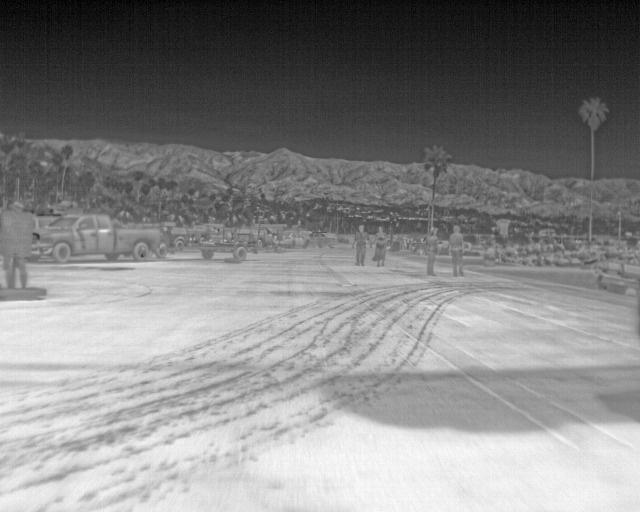bicycle: (34, 210, 162, 261)
empty: (2, 202, 31, 288), (446, 224, 465, 278), (424, 226, 441, 275), (372, 224, 390, 266), (353, 223, 369, 265)
